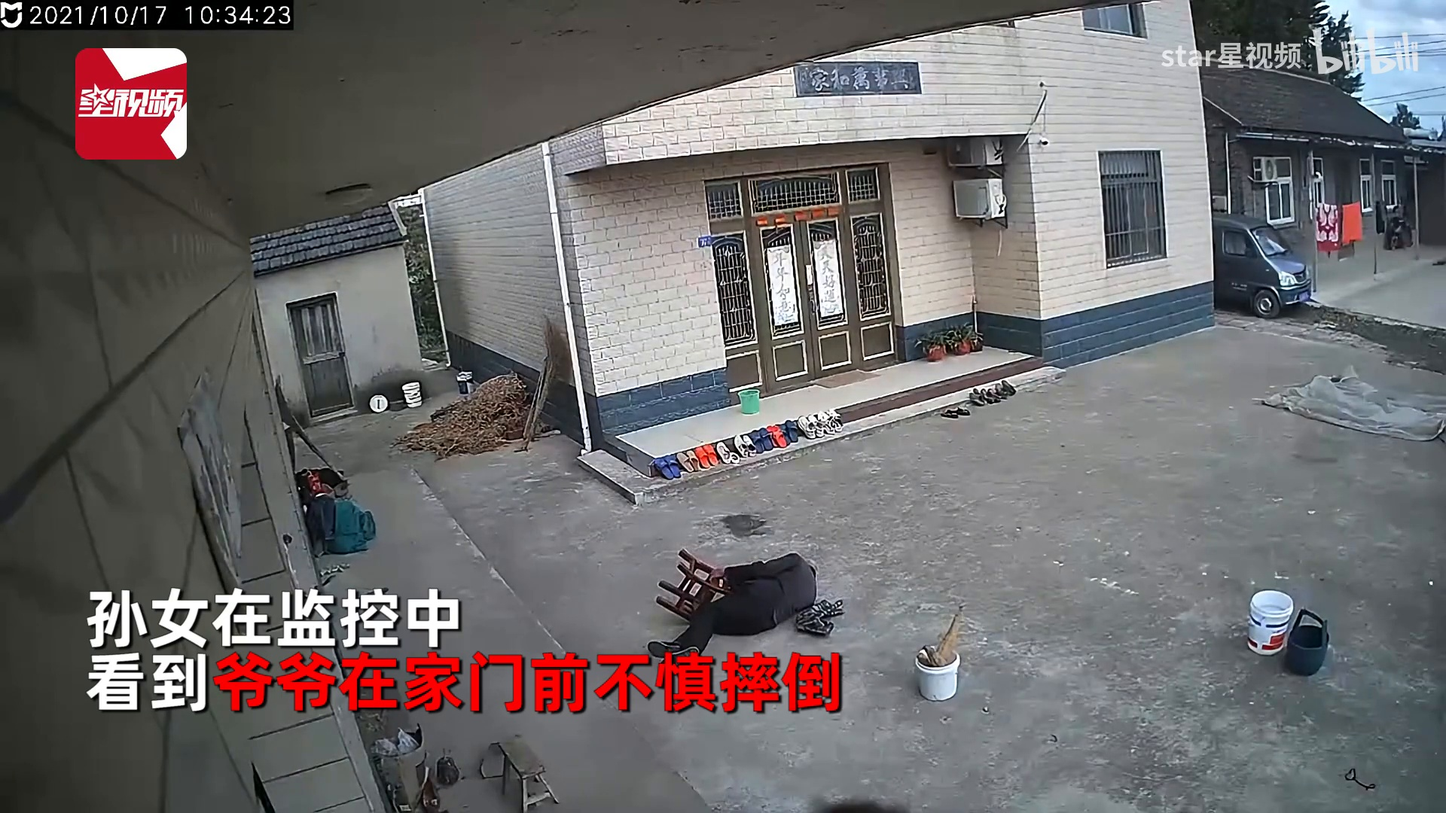fall_down: (645, 550, 821, 662)
